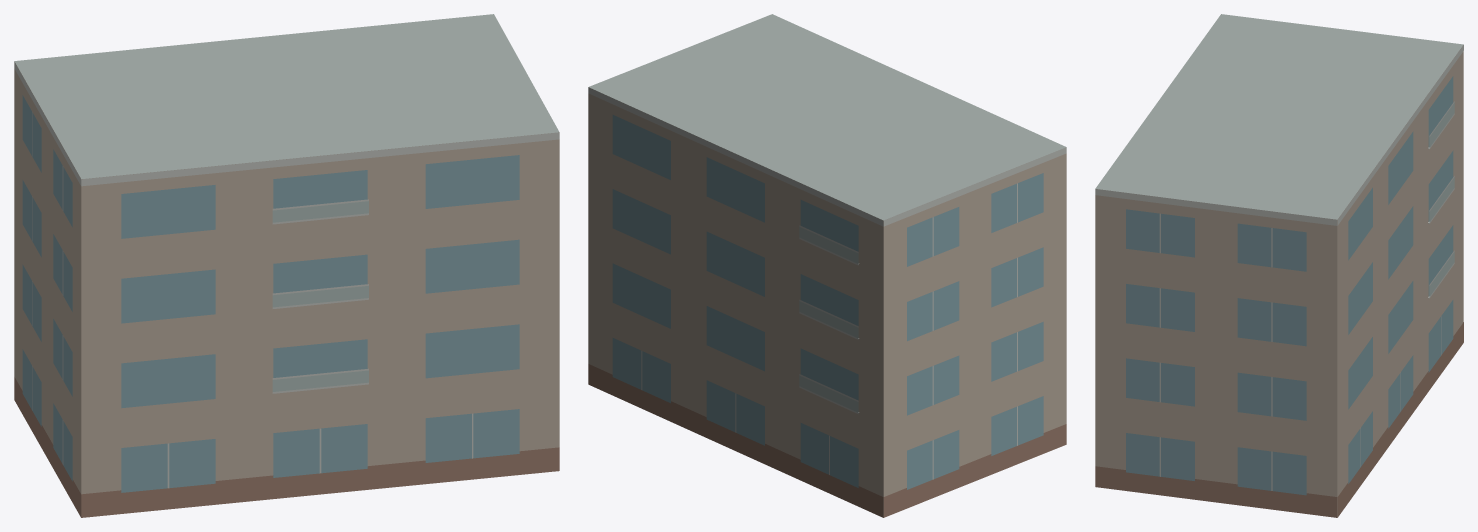
The model's file is survey-upis-32872762.glb.
3 renders of one model, left to right at view 1: azimuth 30°, elevation 25°; view 2: azimuth 150°, elevation 25°; view 3: azimuth 270°, elevation 25°, orthographic. The views are drawn at different scales.
Parts seen in each view (by area): view 1: survey-upis-32872762.tmp; view 2: survey-upis-32872762.tmp; view 3: survey-upis-32872762.tmp.
Boxes of the visible parts, x1,y1,x2,y2 form: survey-upis-32872762.tmp: [14, 14, 559, 517]; survey-upis-32872762.tmp: [588, 14, 1066, 517]; survey-upis-32872762.tmp: [1095, 14, 1463, 517].
Size of the model in its own units: 17.17 by 11.6 by 13.01.
